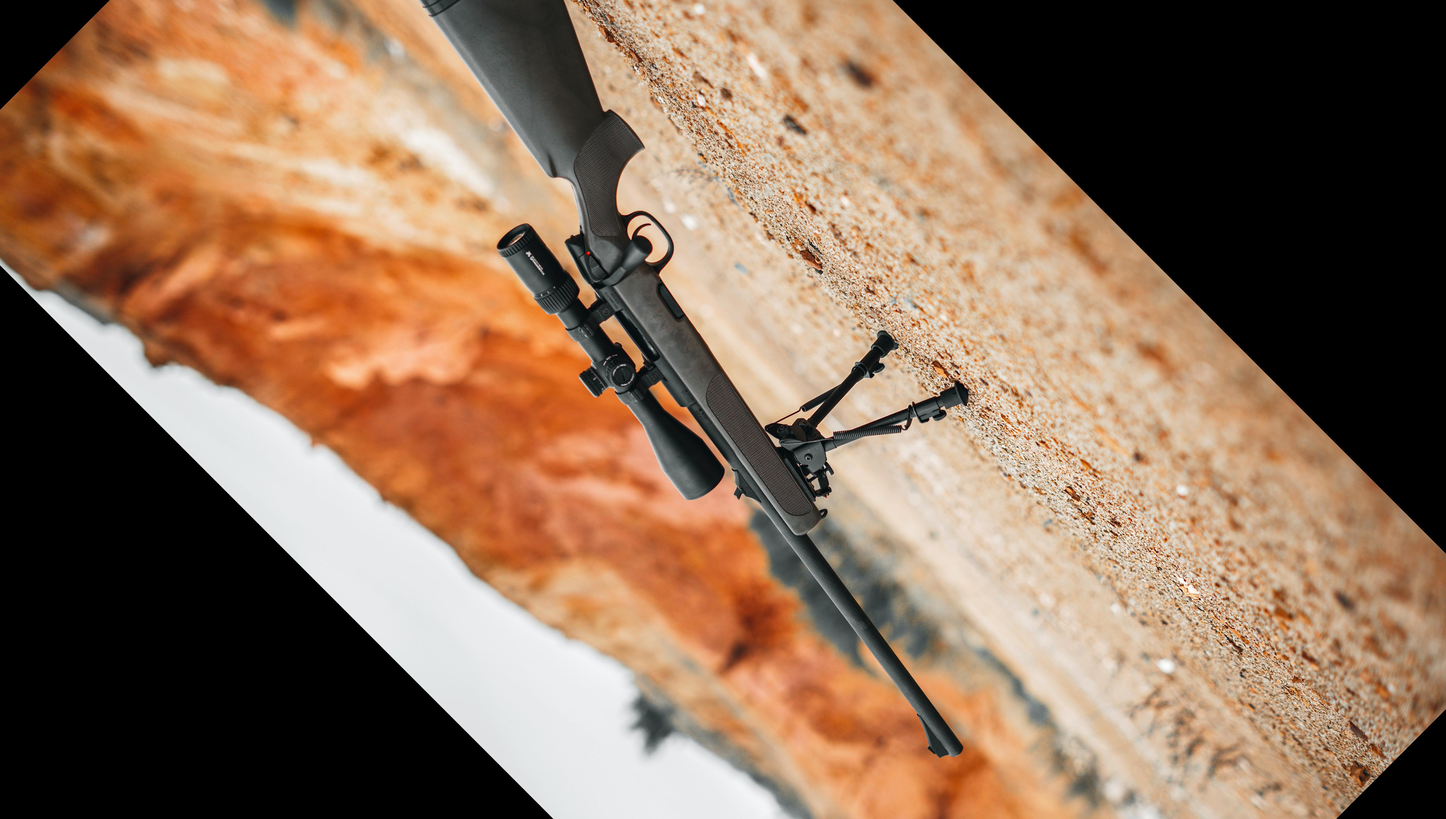larga: (422, 2, 969, 758)
